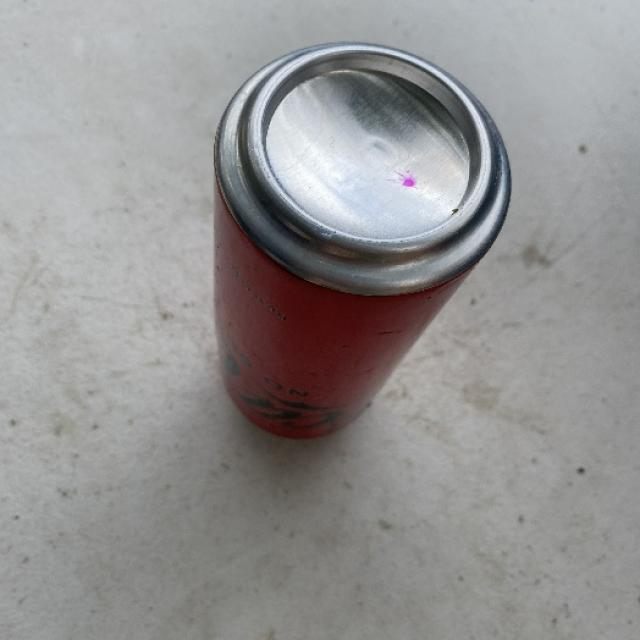metal: (210, 39, 512, 440)
